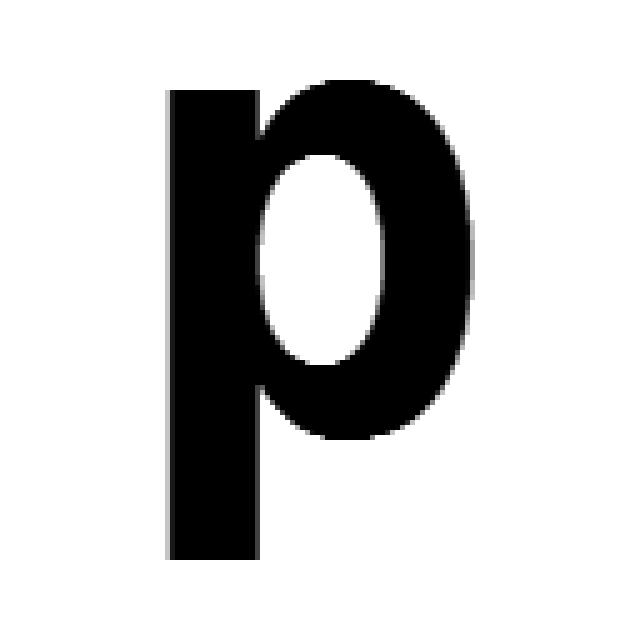P: (165, 80, 475, 565)
